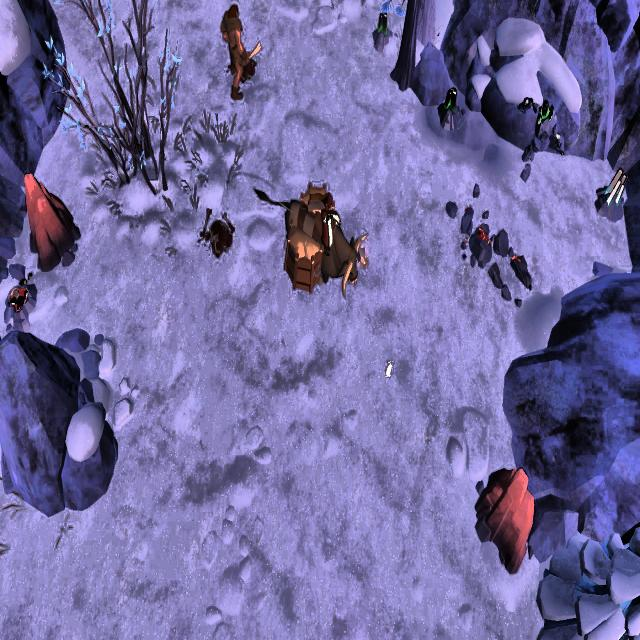enemy_factionKeeper: (220, 2, 258, 104)
ore_t3: (442, 80, 459, 116), (374, 9, 390, 38)
ore_t4: (602, 168, 630, 213)
rock_t5: (475, 464, 534, 580), (22, 167, 80, 269)
